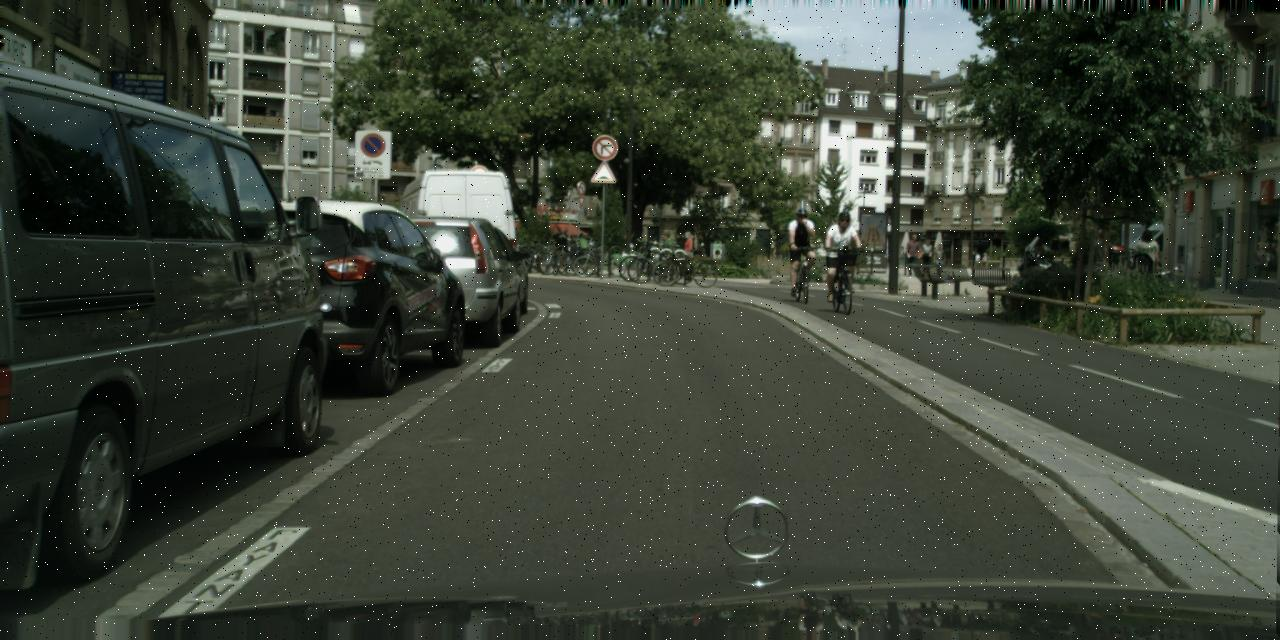ped: (825, 211, 859, 297), (784, 208, 818, 290), (1135, 229, 1161, 291), (904, 233, 921, 276), (658, 232, 674, 269), (682, 230, 696, 268), (919, 238, 933, 273), (932, 243, 944, 276), (973, 252, 979, 267), (982, 252, 986, 266), (924, 244, 924, 244)
